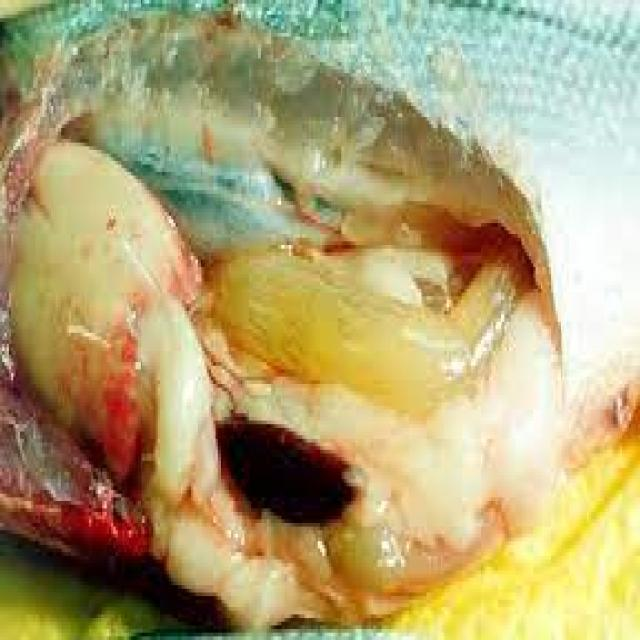EUS Disease: (0, 10, 638, 629)
